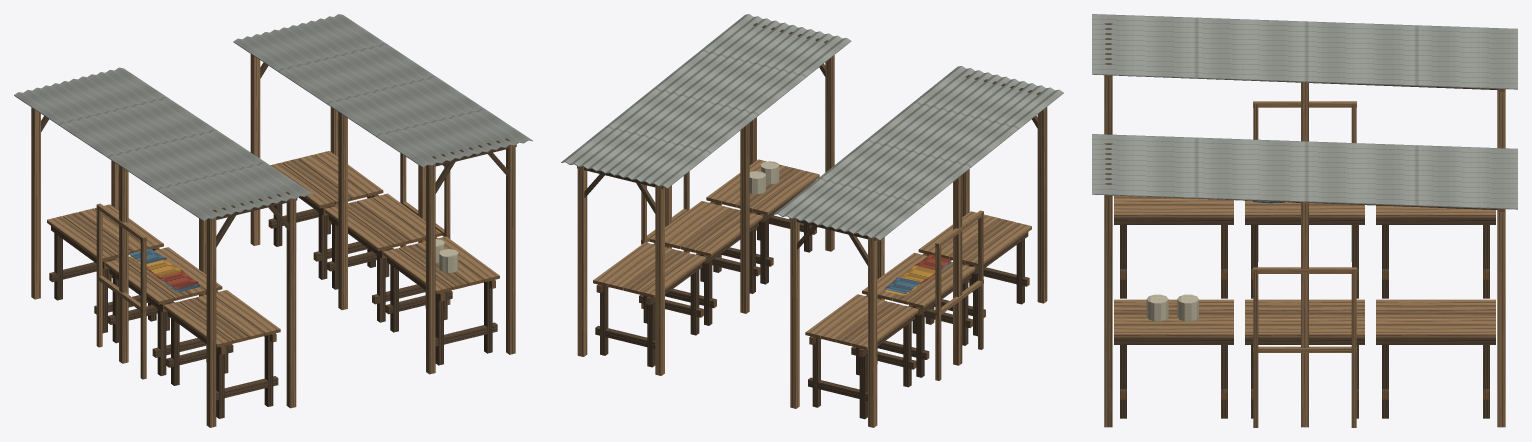
The model's file is kano.glb.
3 renders of one model, left to right at view 1: azimuth 30°, elevation 25°; view 2: azimuth 150°, elevation 25°; view 3: azimuth 270°, elevation 25°, orthographic. The views are drawn at different scales.
Parts seen in each view (by area): view 1: kano; view 2: kano; view 3: kano.
Part boxes in pixels (left/top/right/bottom): kano: left=14, top=14, right=532, bottom=427; kano: left=561, top=14, right=1063, bottom=427; kano: left=1092, top=14, right=1517, bottom=427.
Bounding box in the file's own units: 3.9 × 2.45 × 3.9.
1 material, 1 textured.
